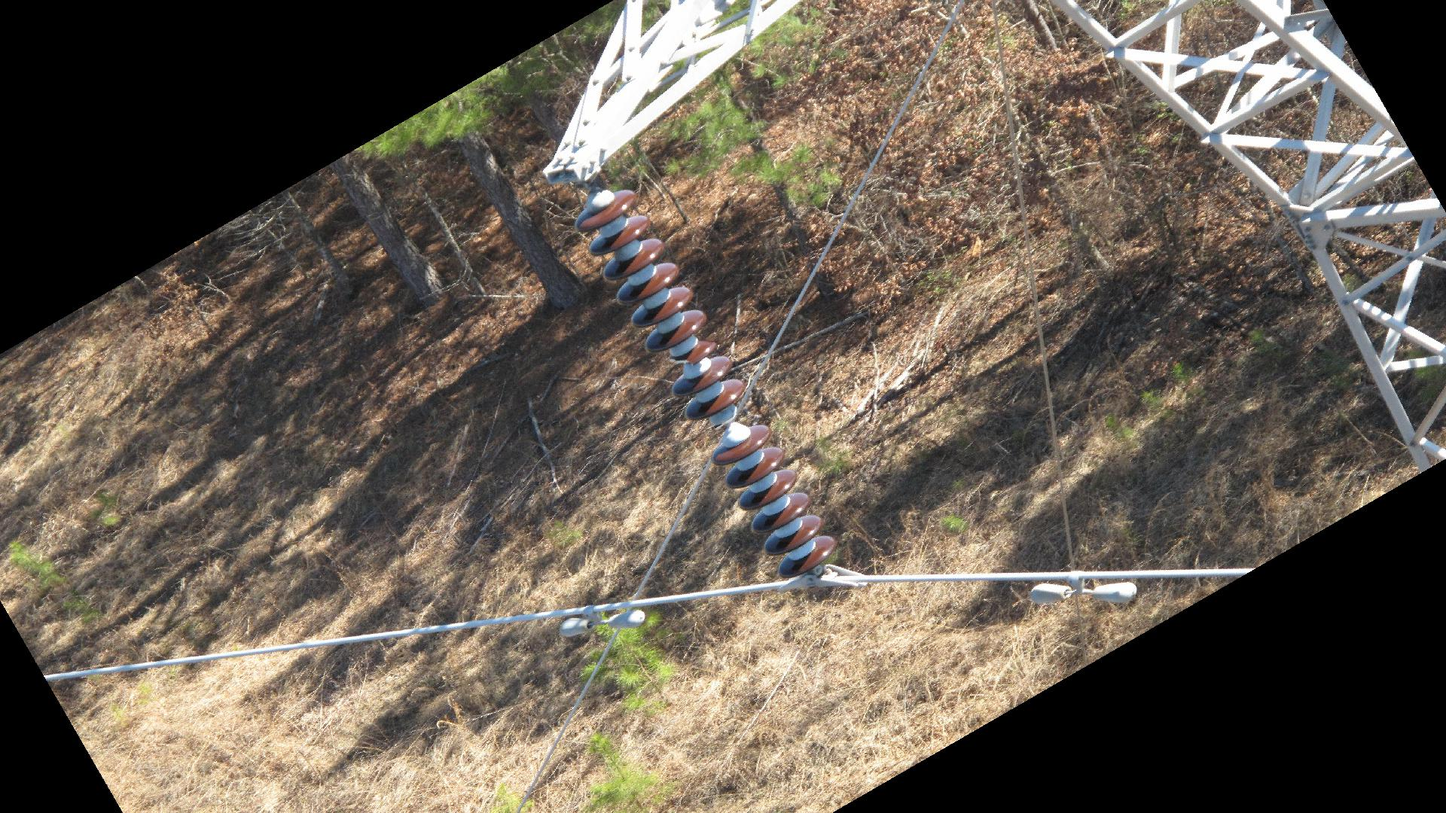insulator: (570, 186, 837, 583)
insulator_breakage: (665, 355, 697, 370)
